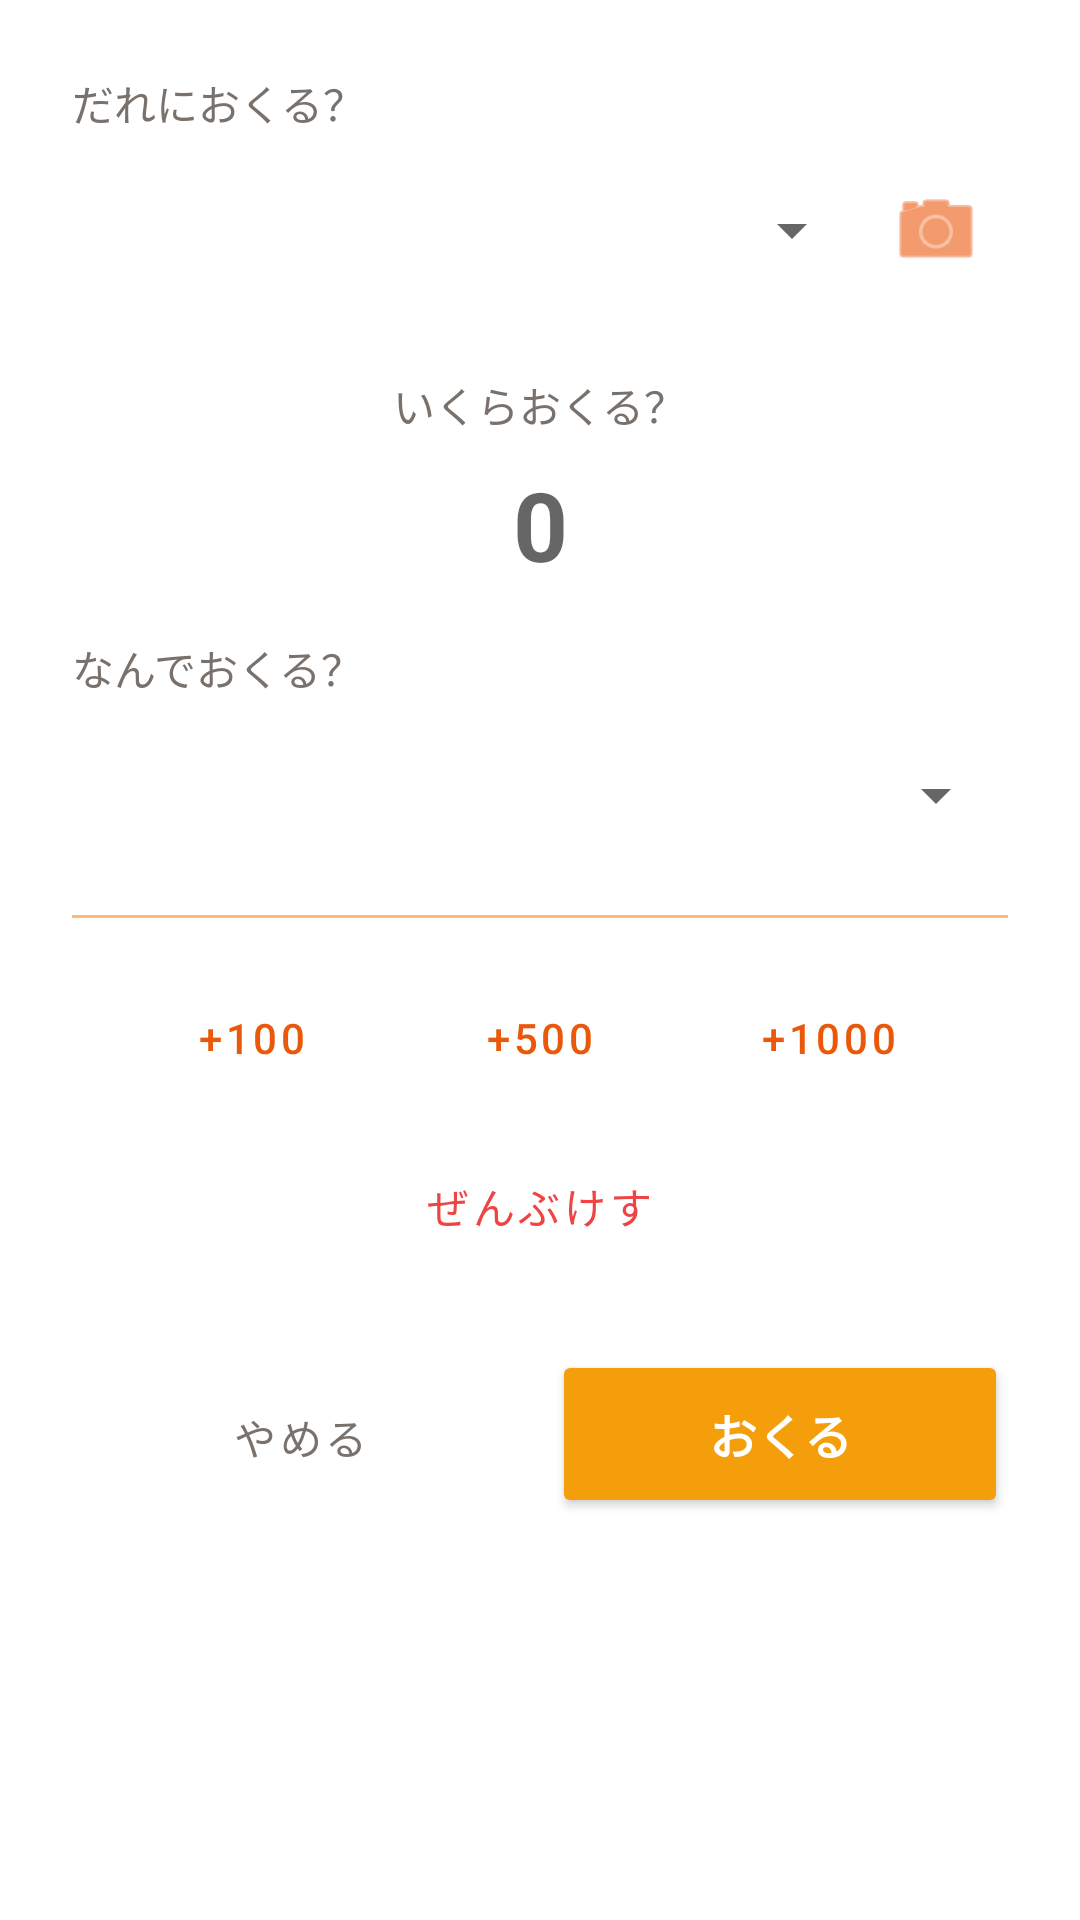

Point at icon controls on the screen. Image size 1080x1920, points as (x=x, y=y).
camera: (x=936, y=228)
